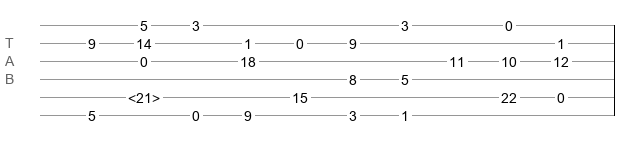0: (140, 54, 148, 64), (192, 108, 200, 118), (296, 36, 304, 46), (505, 18, 513, 28), (557, 90, 565, 100)
1: (244, 36, 252, 46), (401, 108, 409, 118), (557, 36, 565, 46)
10: (501, 54, 517, 64)
11: (449, 54, 465, 64)
12: (553, 54, 569, 64)
14: (136, 36, 152, 46)
15: (292, 90, 308, 100)
18: (240, 54, 256, 64)
22: (501, 90, 517, 100)
3: (192, 18, 200, 28), (349, 108, 357, 118), (401, 18, 409, 28)
5: (88, 108, 96, 118), (140, 18, 148, 28), (401, 72, 409, 82)
8: (349, 72, 357, 82)
9: (88, 36, 96, 46), (244, 108, 252, 118), (349, 36, 357, 46)
harmonic: (128, 90, 160, 100)
